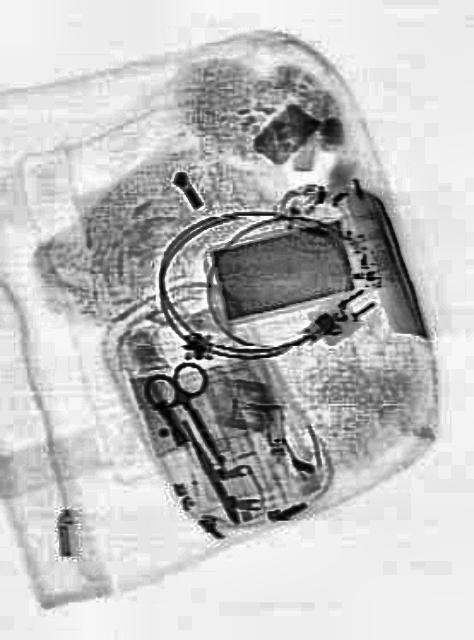Scissors: (139, 346, 240, 488)
